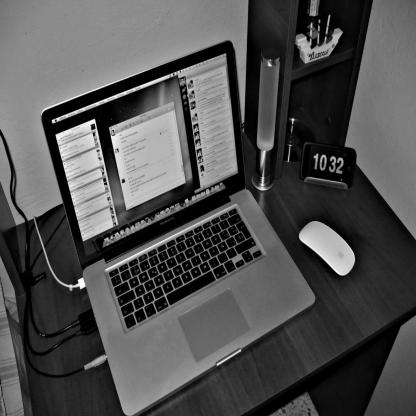board: (48, 32, 318, 412)
